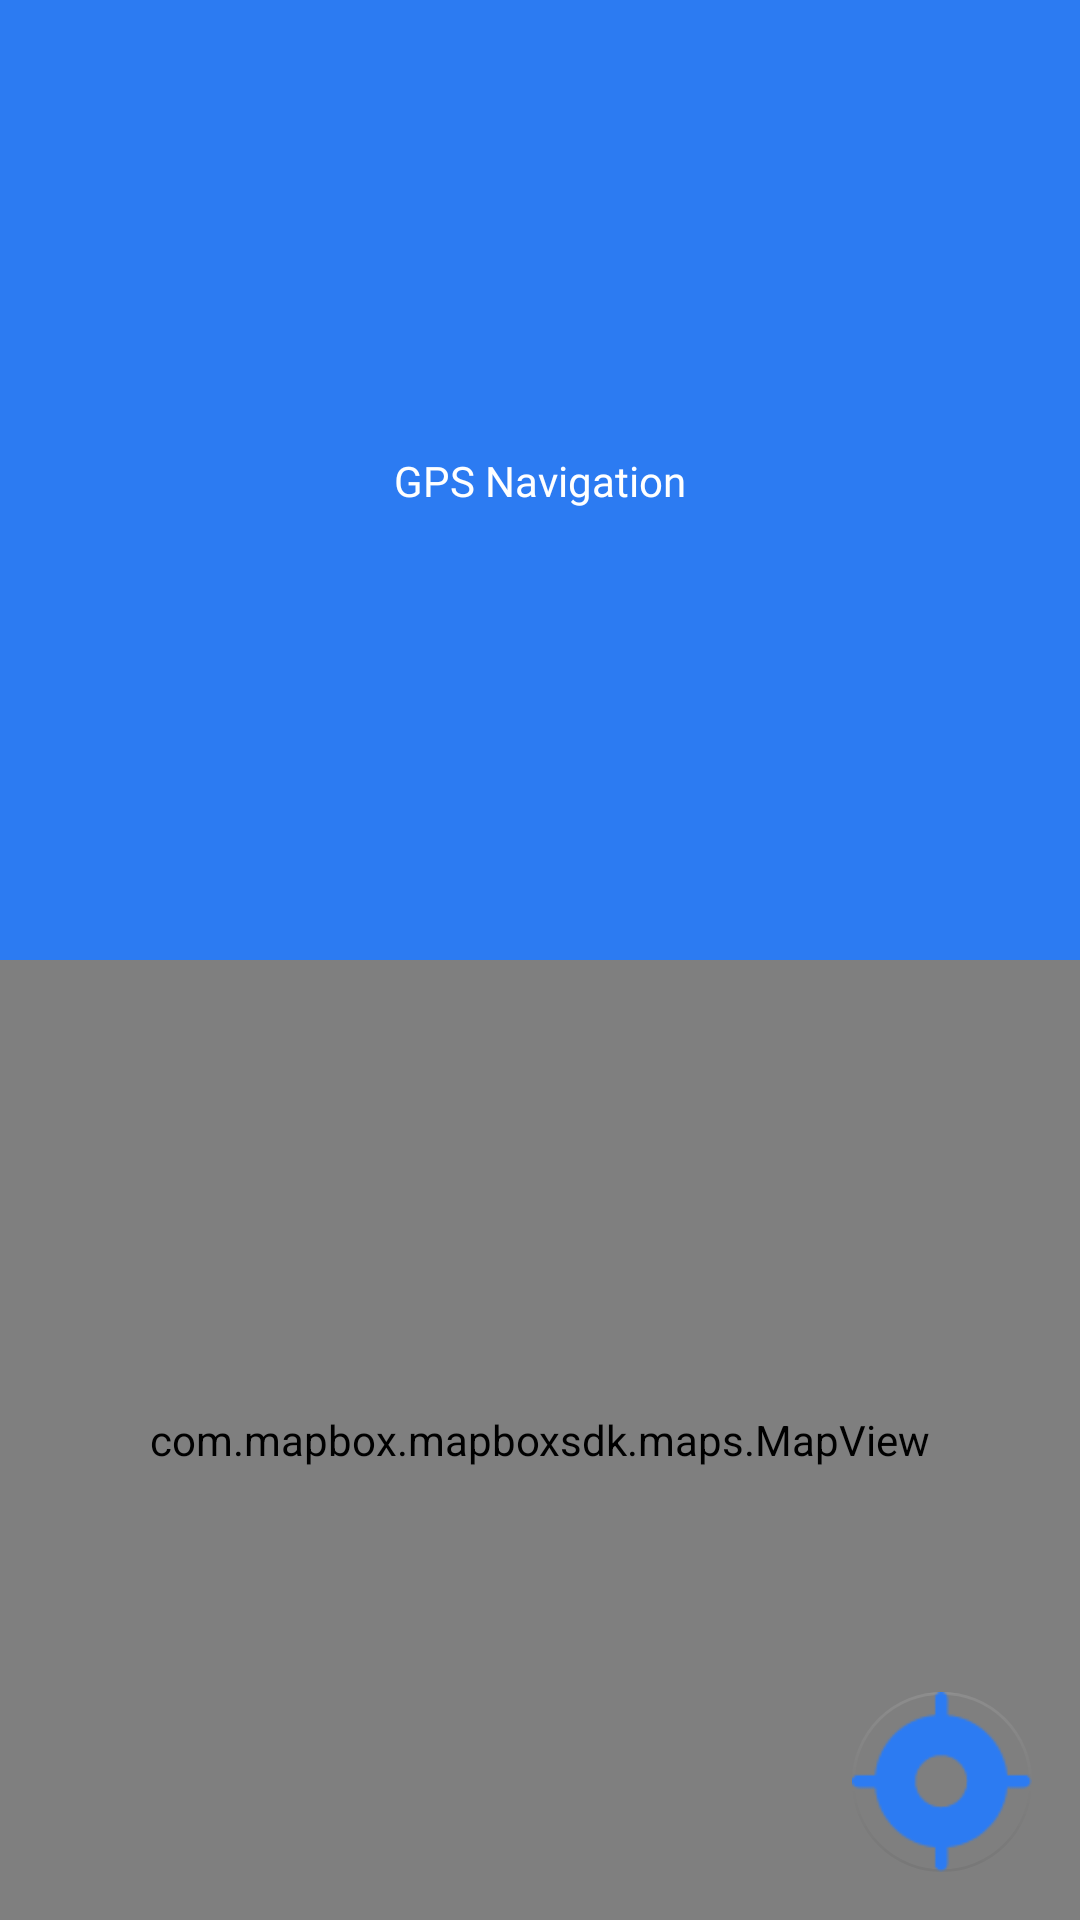

Locate icon controls on the screen. Image size 1080×1920, boxes as bbox(x1, y1, x2, y2).
tracking refresh: bbox(852, 1692, 1032, 1871)
